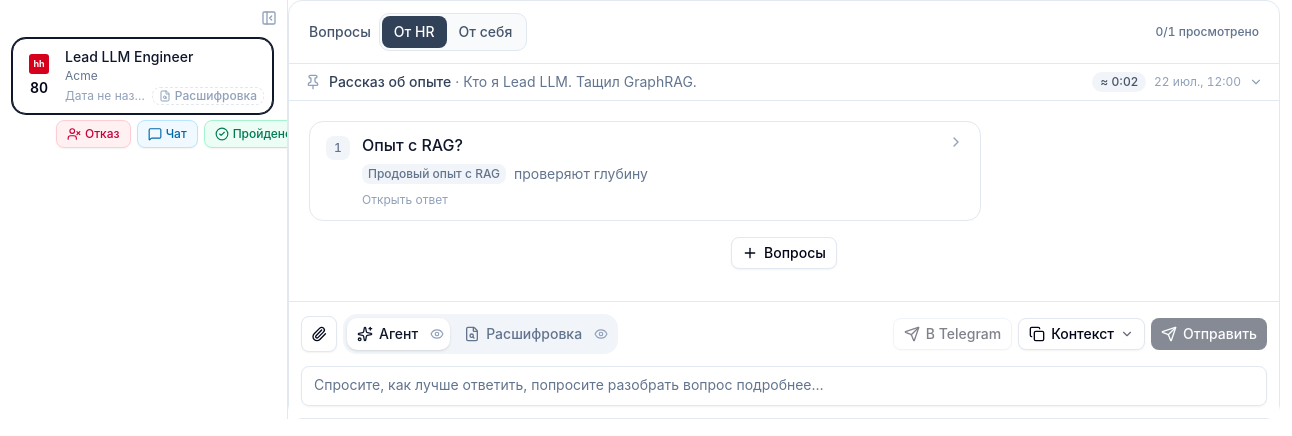
Scenario: per-vacancy экран — «Рассказ об опыте» закреплён вверху ленты › рендерит закреплённый рассказ и вопросы в одной ленте
The image size is (1292, 436).
Expected: the text "Рассказ об опыте" is shown once, [329,73,451,90]
Expected: the text "· Кто я Lead LLM. Тащил GraphRAG." is shown, [451,73,697,90]
// Переключалка «От себя» показывает вопросы для HR вместо вопросов от HR.
Click the button "От себя": click(485, 32) [446,16,524,48]
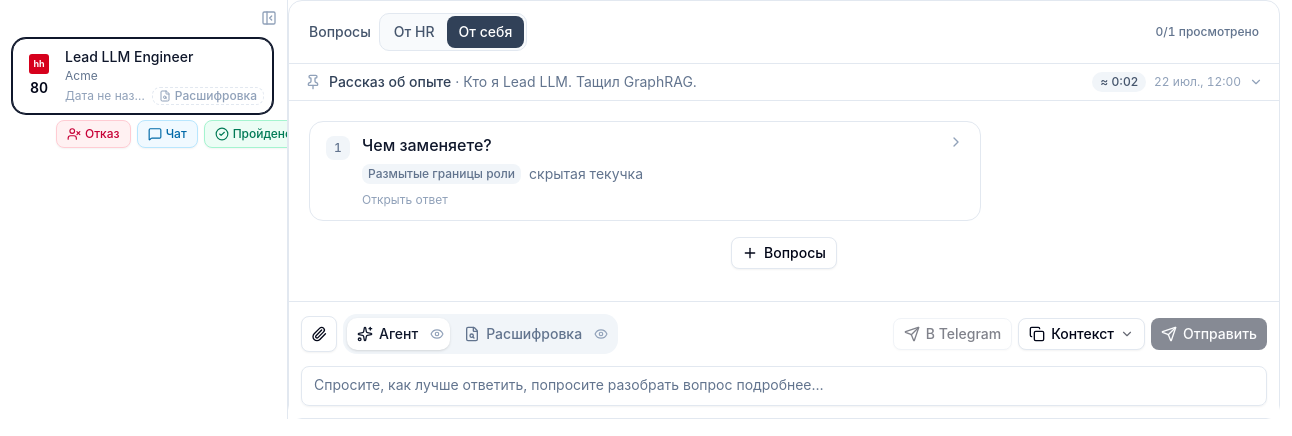
Expected: the button "Вопросы" is shown, [731,237,837,269]
Expected: the text "Чем заменяете?" is shown, [362,134,492,156]
Expected: the button "Опыт с RAG?" is gone
